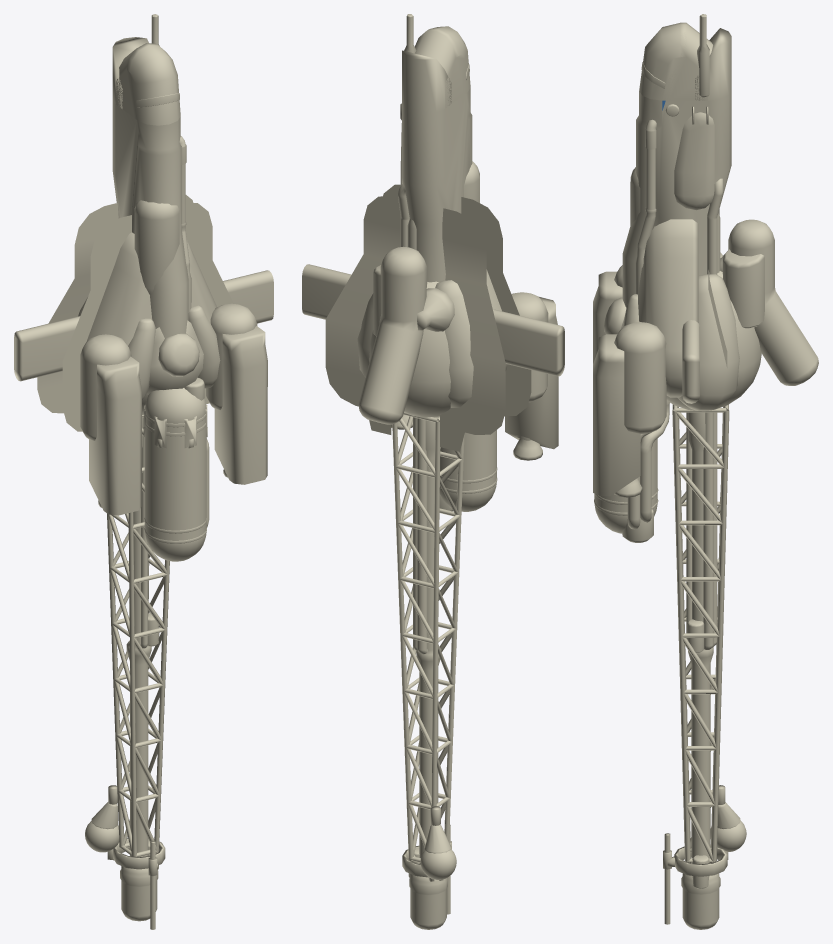
The model's file is Fighter_Interceptor_EXPORT.dae.
The picture shows the model from 3 angles, left to right: view 1: azimuth 30°, elevation 25°; view 2: azimuth 150°, elevation 25°; view 3: azimuth 270°, elevation 25°; orthographic projection. The views are drawn at different scales.
Visible parts, largest first — view 1: Generic; view 2: Generic; view 3: Generic.
Boxes of the visible parts, box(x1,y1,x2,y2) form: Generic: box(14, 14, 273, 929); Generic: box(302, 14, 564, 929); Generic: box(593, 14, 818, 929).
Bounding box in the file's own units: 1.95 × 6.65 × 1.48.
